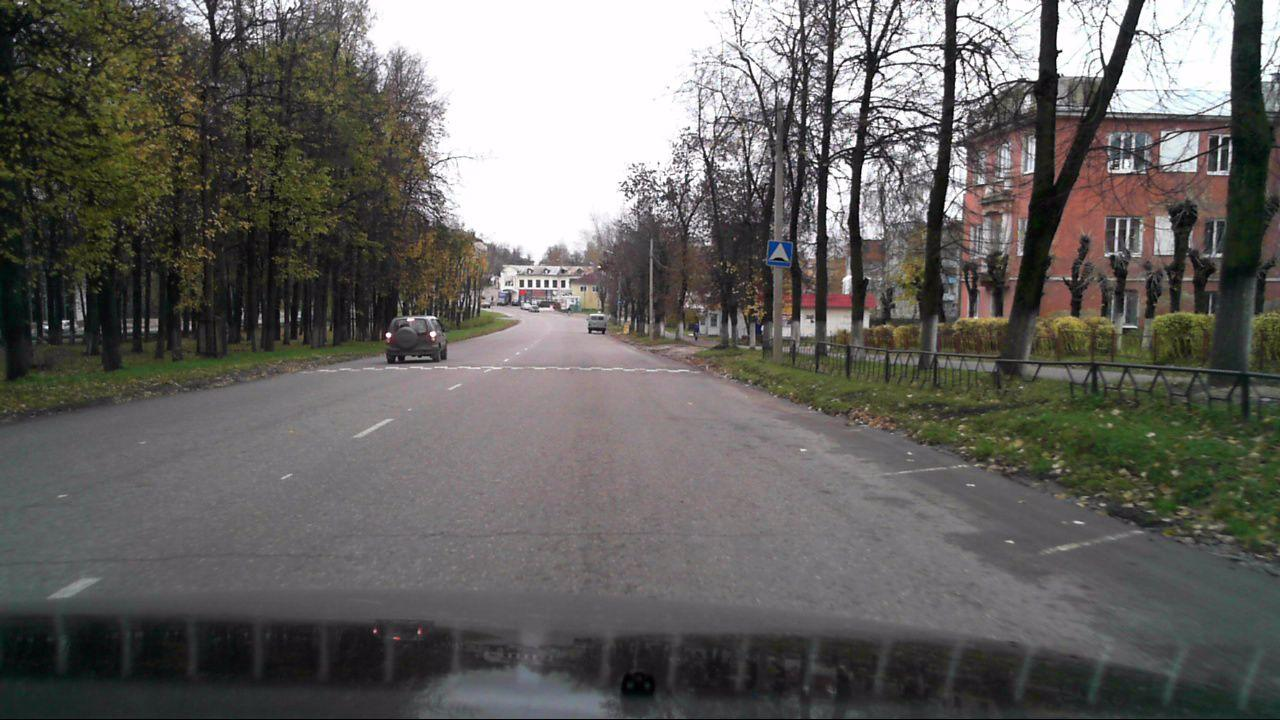5_20: (765, 239, 794, 268)
